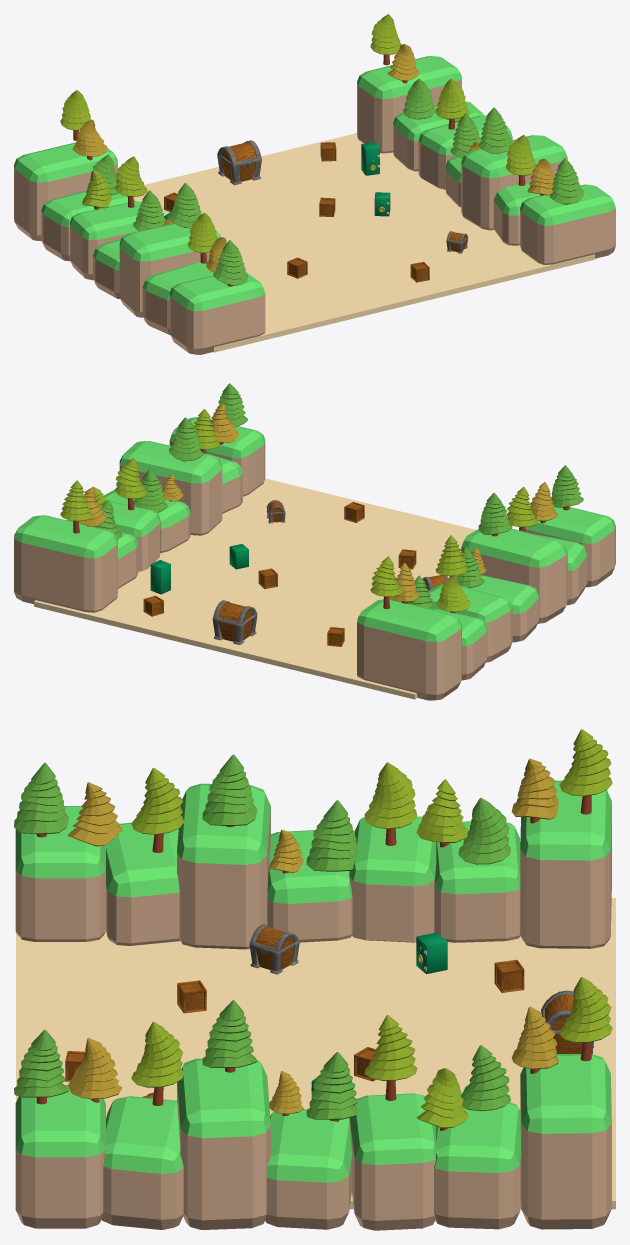
The model's file is forest stage.fbx.
The picture shows the model from 3 angles, top to bottom: view 1: azimuth 30°, elevation 25°; view 2: azimuth 150°, elevation 25°; view 3: azimuth 270°, elevation 25°; orthographic projection. The views are drawn at different scales.
Visible parts, largest first — view 1: Cube.048, Cube.061, Cube.051, Circle.046, Circle.056, Circle.057, Circle.048, Circle.049, Circle.054, Circle.037, Circle.045, Circle.055 (+12 smaller); view 2: Cube.048, Cube.061, Cube.051, Circle.056, Circle.045, Circle.048, Circle.046, Circle.049, Circle.038, Circle.043, Circle.037, Circle.041 (+13 smaller); view 3: Cube.051, Cube.061, Cube.048, Circle.046, Circle.045, Circle.037, Circle.042, Circle.054, Circle.049, Circle.057, Circle.056, Circle.038 (+19 smaller).
Part boxes in pixels (x1,y1,x2,y2): Cube.048: (133, 133, 594, 352); Cube.061: (14, 142, 265, 354); Cube.051: (357, 56, 615, 264); Circle.046: (213, 240, 247, 286); Circle.056: (478, 107, 512, 153); Circle.057: (550, 158, 583, 204); Circle.048: (435, 78, 467, 129); Circle.049: (370, 14, 401, 65); Circle.054: (505, 135, 536, 185); Circle.037: (115, 156, 147, 207); Circle.045: (169, 182, 201, 228); Circle.055: (403, 78, 435, 119); Cube.048: (34, 478, 475, 699); Cube.061: (357, 506, 615, 700); Cube.051: (14, 417, 265, 612); Circle.056: (169, 417, 203, 461); Circle.045: (478, 492, 512, 536); Circle.048: (115, 458, 147, 510); Circle.046: (551, 465, 583, 510); Circle.049: (60, 480, 92, 533); Circle.038: (370, 556, 402, 608); Circle.043: (507, 487, 538, 531); Circle.037: (435, 535, 467, 576); Circle.041: (436, 575, 470, 613); Cube.051: (15, 1054, 611, 1230); Cube.061: (15, 780, 611, 949); Cube.048: (16, 898, 615, 1209); Circle.046: (14, 762, 68, 837); Circle.045: (202, 754, 257, 827); Circle.037: (364, 762, 417, 845); Circle.042: (306, 800, 358, 871); Circle.054: (131, 1021, 184, 1105); Circle.049: (559, 977, 612, 1061); Circle.057: (14, 1029, 68, 1104); Circle.056: (202, 1000, 256, 1072); Circle.038: (559, 729, 612, 814).
Bounding box in the file's own units: 51.51 × 14.92 × 37.99.
